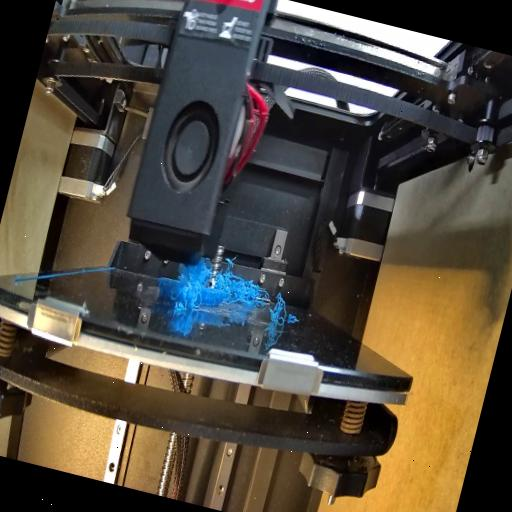spaghetti: (208, 262, 270, 308), (172, 262, 214, 322), (264, 294, 292, 332)
